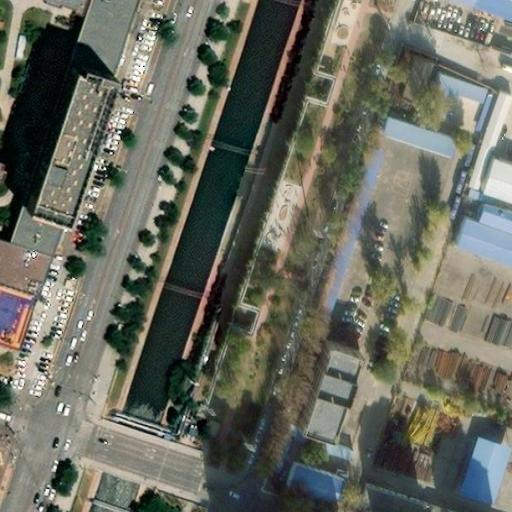building: (307, 134, 393, 334), (29, 76, 114, 234), (434, 196, 512, 268), (295, 347, 353, 439), (459, 87, 506, 193), (450, 429, 506, 499), (344, 478, 456, 512), (375, 111, 453, 153), (16, 222, 68, 276), (276, 453, 335, 499), (419, 63, 480, 103), (472, 155, 512, 199), (393, 50, 428, 98), (467, 82, 495, 128), (227, 303, 259, 332)
